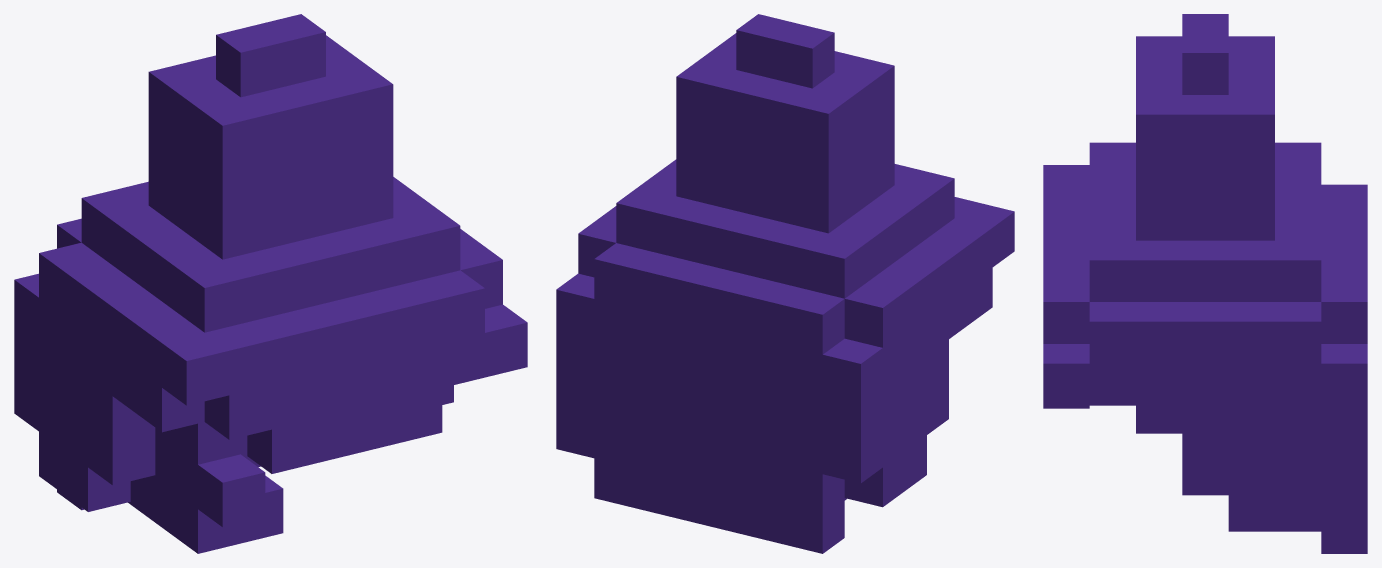
The model's file is ama03-10.obj.
3 renders of one model, left to right at view 1: azimuth 30°, elevation 25°; view 2: azimuth 150°, elevation 25°; view 3: azimuth 270°, elevation 25°, orthographic. The views are drawn at different scales.
Visible parts, largest first — view 1: ama03-10; view 2: ama03-10; view 3: ama03-10.
Part boxes in pixels (x1,y1,x2,y2): ama03-10: [14, 14, 527, 553]; ama03-10: [556, 14, 1014, 553]; ama03-10: [1043, 14, 1367, 553].
Bounding box in the file's own units: 8 × 11 × 7.
Materials: 1 (1 with a texture image).
